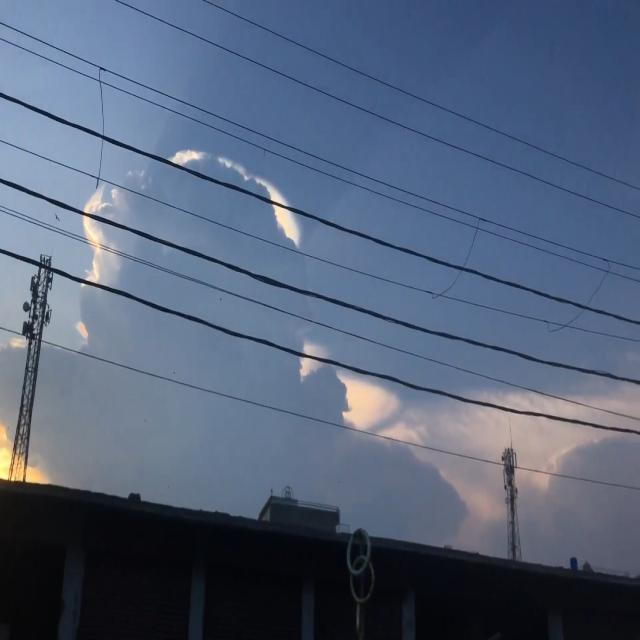bird: (52, 208, 62, 228)
